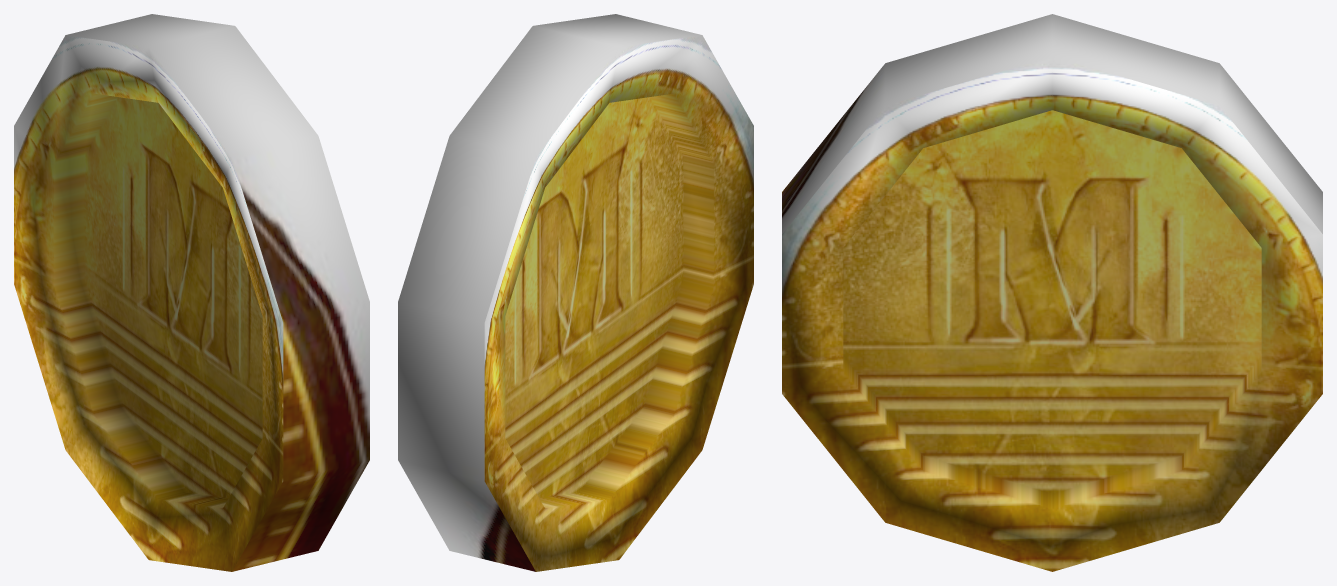
The model's file is Coin.fbx.
3 renders of one model, left to right at view 1: azimuth 30°, elevation 25°; view 2: azimuth 150°, elevation 25°; view 3: azimuth 270°, elevation 25°, orthographic.
Visible parts, largest first — view 1: Coin; view 2: Coin; view 3: Coin.
Boxes of the visible parts, <box> form: Coin: <box>14,14,369,571</box>; Coin: <box>398,14,753,571</box>; Coin: <box>782,14,1322,571</box>.
Bounding box in the file's own units: 0.3532 × 2 × 1.9.
